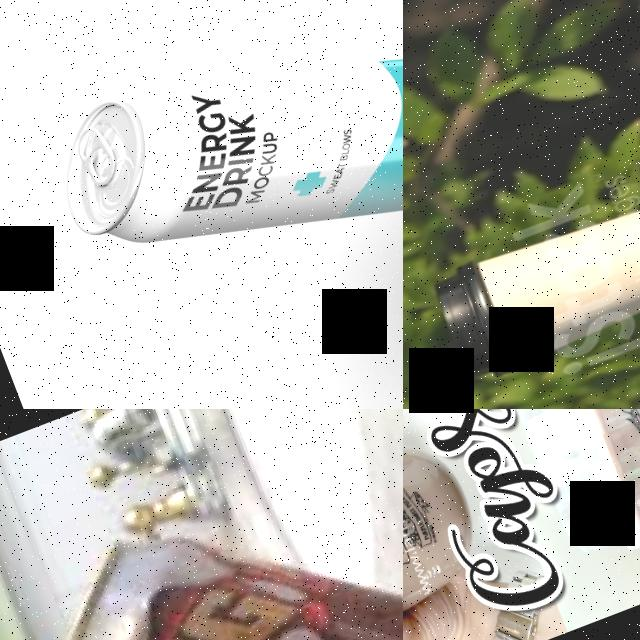can: (31, 0, 403, 325), (4, 422, 403, 640)
cup: (423, 150, 640, 389), (403, 409, 505, 640), (500, 409, 640, 573)
